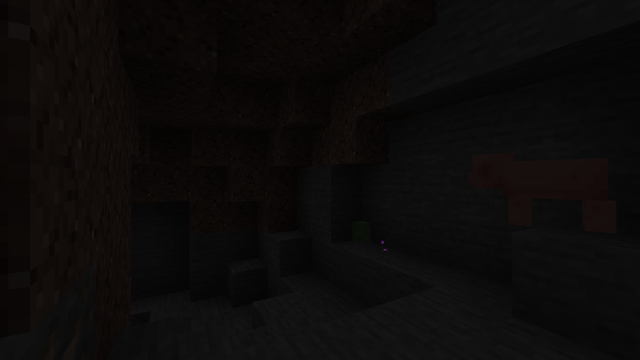cochons: (495, 155, 599, 233)
slimes: (354, 218, 368, 241)
